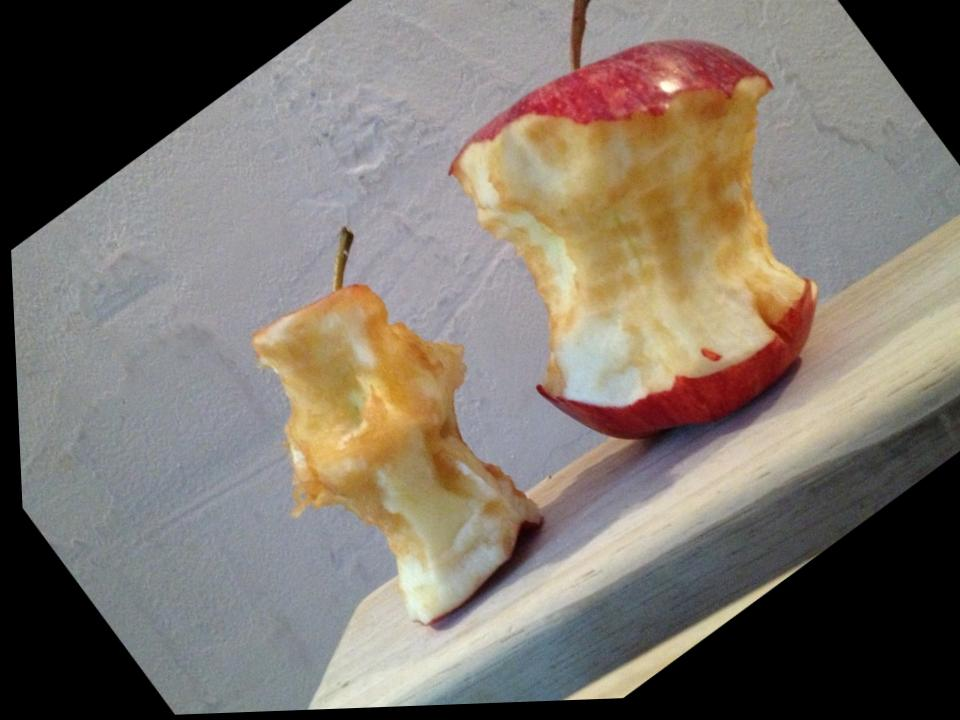organic: (351, 0, 929, 505), (164, 199, 598, 664)
